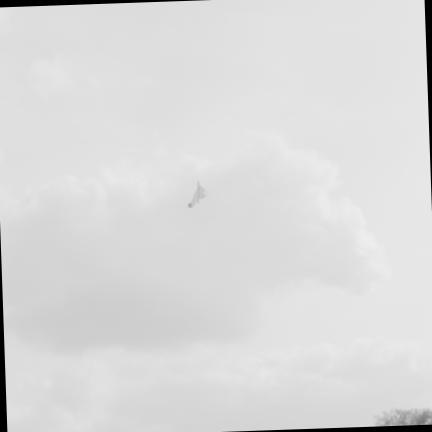Shahed: (188, 179, 208, 207)
